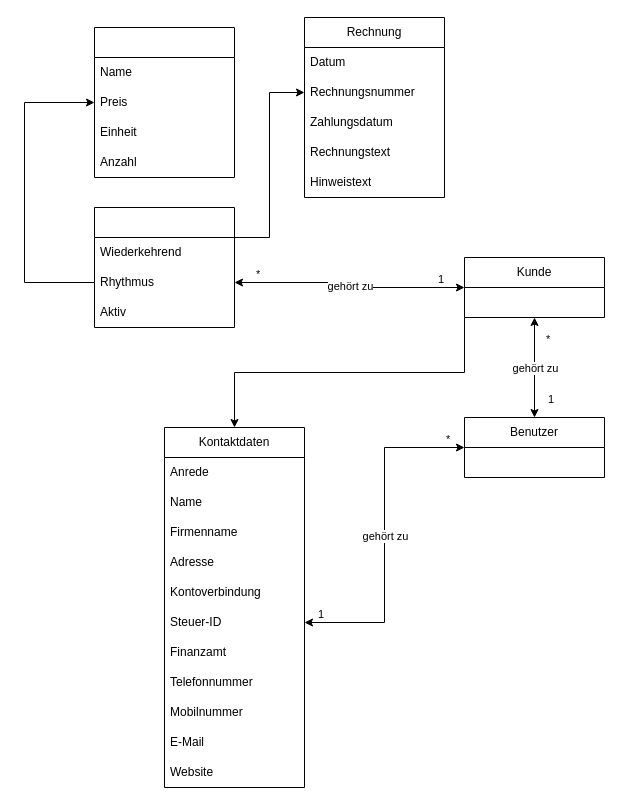
This 622x805 diagram has some shape labels left out. The box of each missing label's shape, as (x1, y1, x2, y2) in pixels:
Position: (94, 26, 234, 178)
Projekt: (94, 206, 234, 328)
